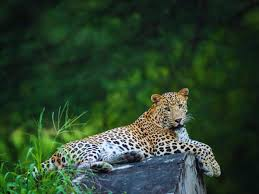Leopard: (25, 88, 225, 179)
